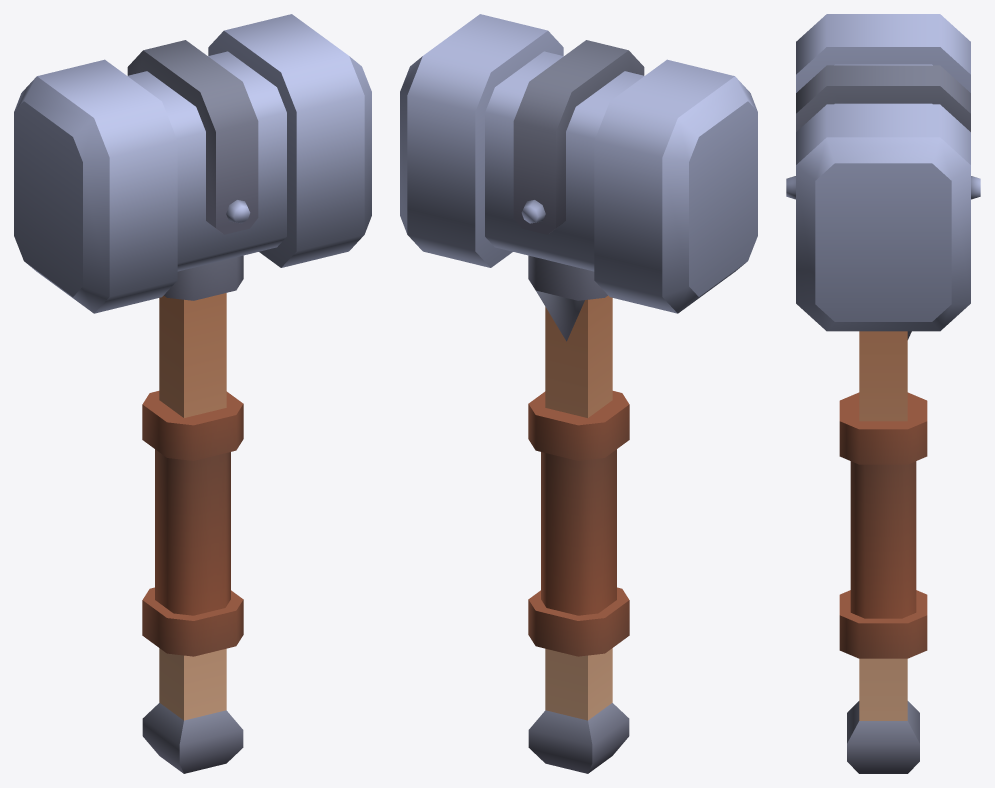
File: hammer-a.fbx
3 renders of one model, left to right at view 1: azimuth 30°, elevation 25°; view 2: azimuth 150°, elevation 25°; view 3: azimuth 270°, elevation 25°, orthographic.
Parts seen in each view (by area): view 1: hammer-a; view 2: hammer-a; view 3: hammer-a.
Boxes of the visible parts, box(x1,y1,x2,y2) form: hammer-a: box(14, 14, 371, 773); hammer-a: box(400, 14, 757, 773); hammer-a: box(786, 14, 980, 773).
Bounding box in the file's own units: 170 × 390 × 100.
Materials: 1 (1 with a texture image).
